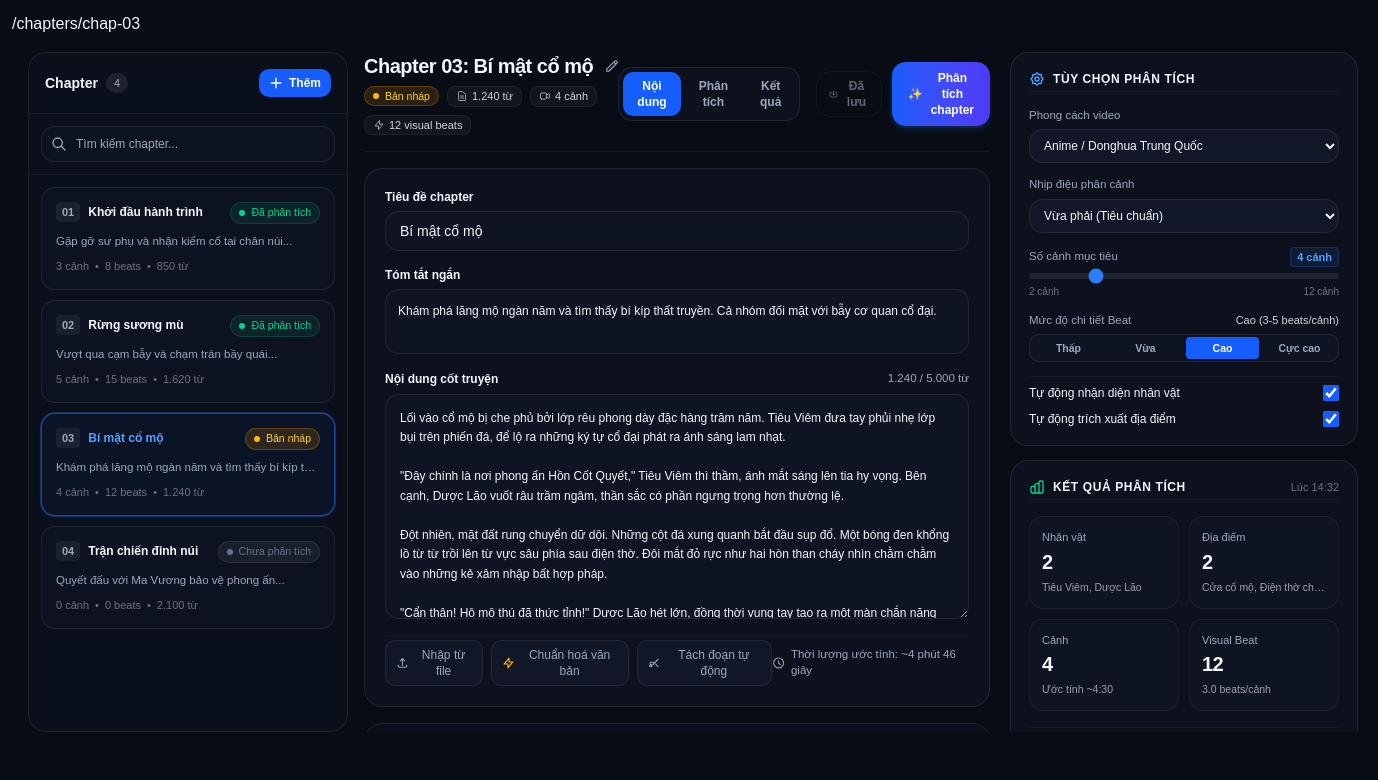
Test case: ChapterPage › switches chapters and updates URL when clicking another chapter in list
Click Chapter 01
Click the text "Khởi đầu hành trình". click: (146, 212)
box: [88,204,203,220]
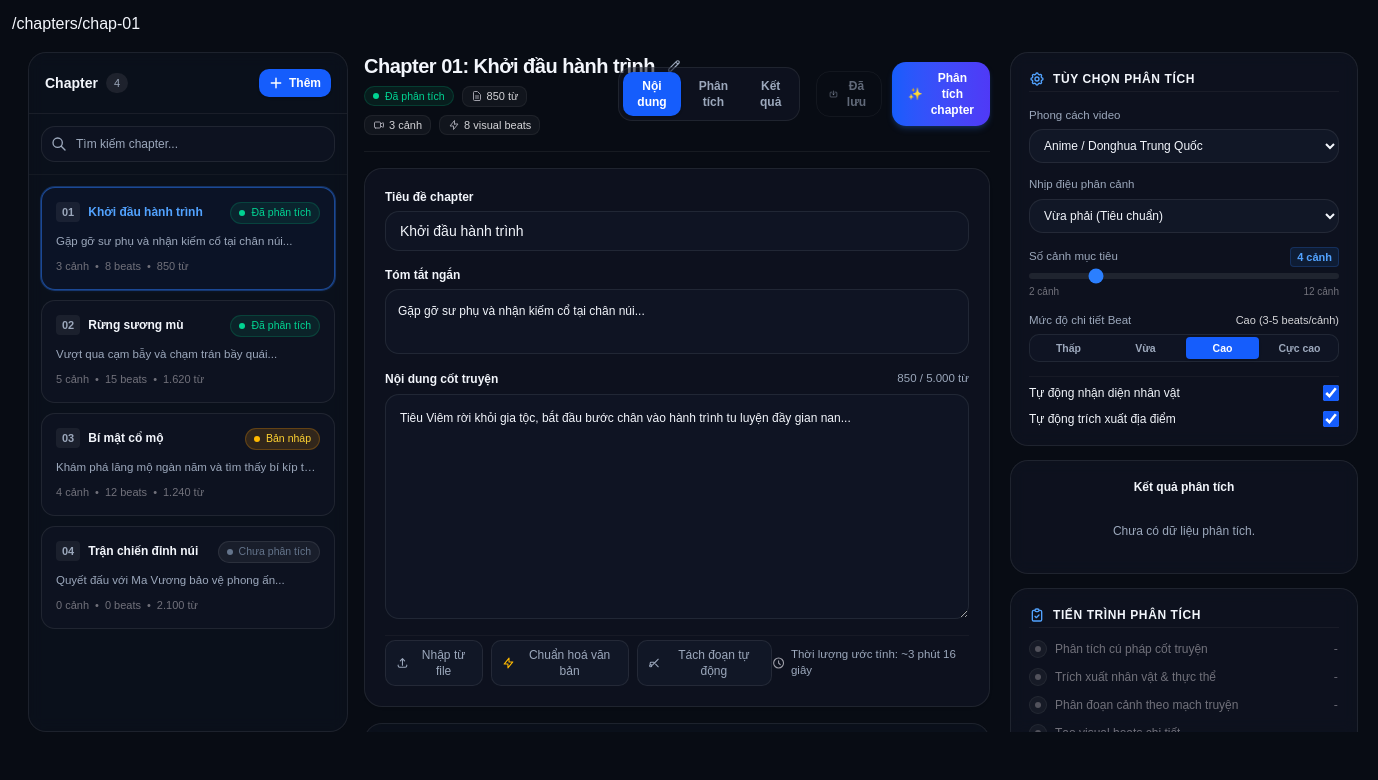
Expected: the text with test id "location-display" reads "/chapters/chap-01", [12,15,140,32]
Expected: the heading "Chapter 01: Khởi đầu hành trình" is shown, [364,52,655,80]
Expected: the field showing "Khởi đầu hành trình" is shown, [385,211,969,251]
